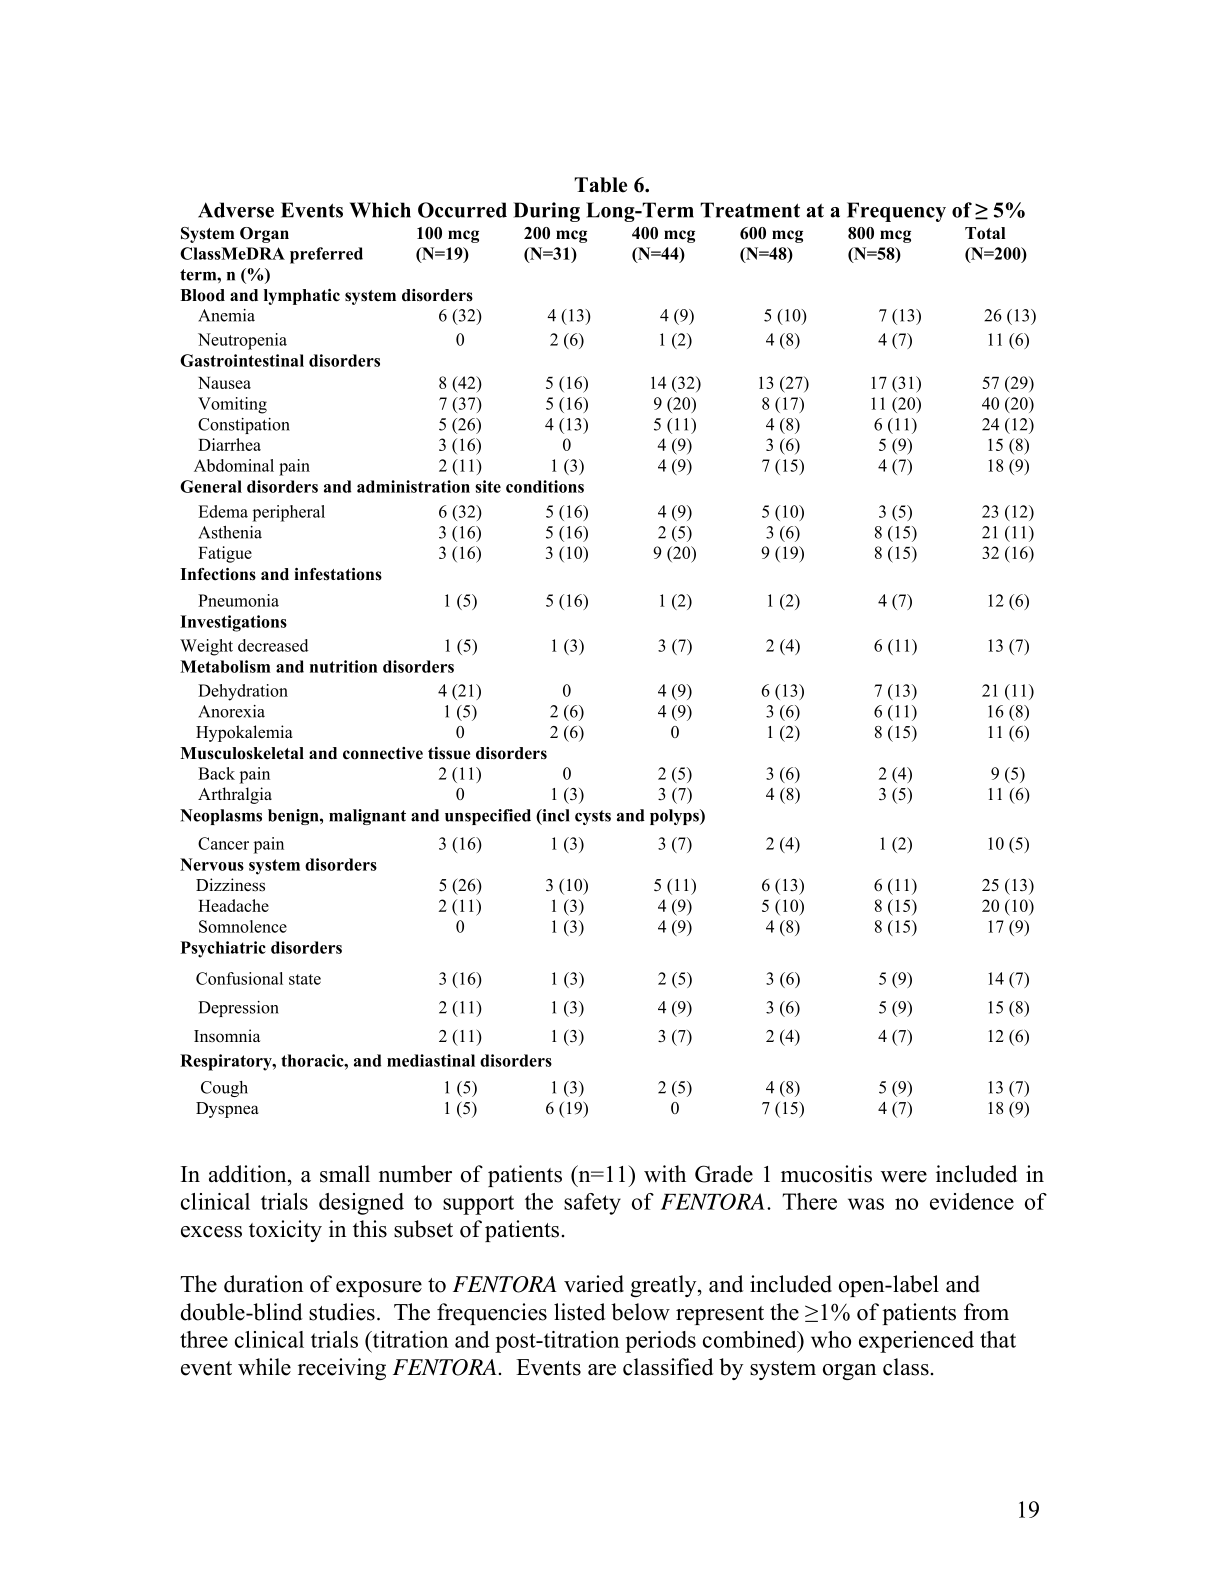nolines: (177, 222, 1036, 1119)
